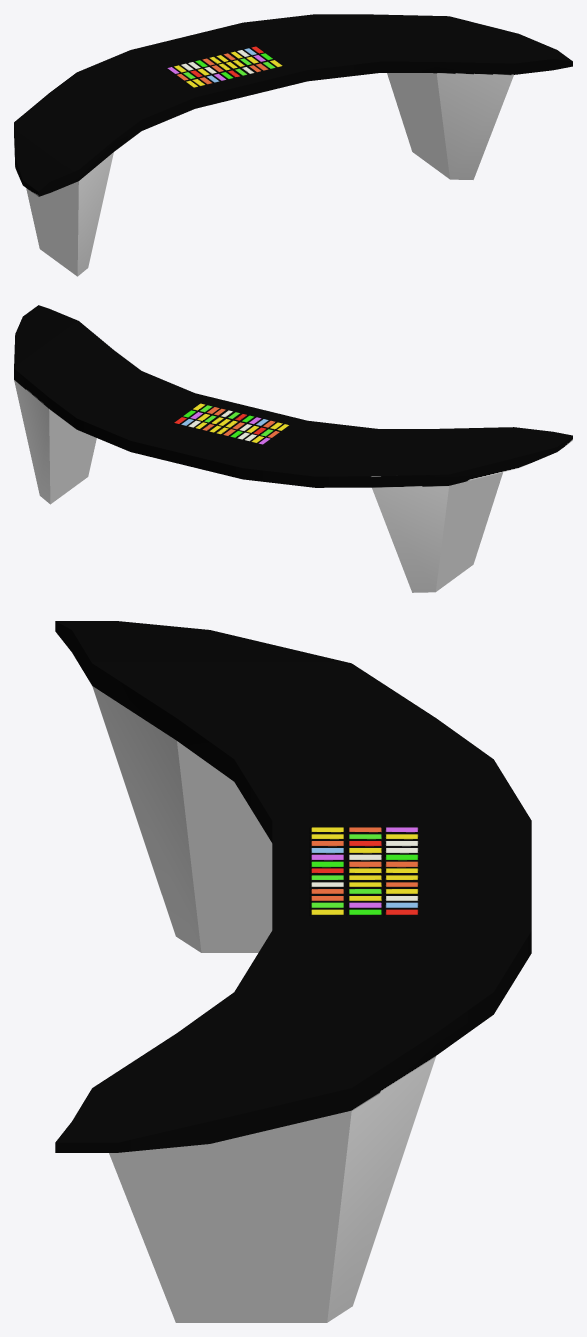
File: console.glb
3 views of the same model, one above another, from view 1: azimuth 30°, elevation 25°; view 2: azimuth 150°, elevation 25°; view 3: azimuth 270°, elevation 25° (orthographic). The views are drawn at different scales.
Visible parts, largest first — view 1: Cube; view 2: Cube; view 3: Cube.
Part boxes in pixels (x1,y1,x2,y2): Cube: [14, 14, 572, 276]; Cube: [14, 305, 572, 592]; Cube: [55, 621, 531, 1322].
Bounding box in the file's own units: 2.21 × 0.5041 × 0.8521.
1 material, 1 textured.
